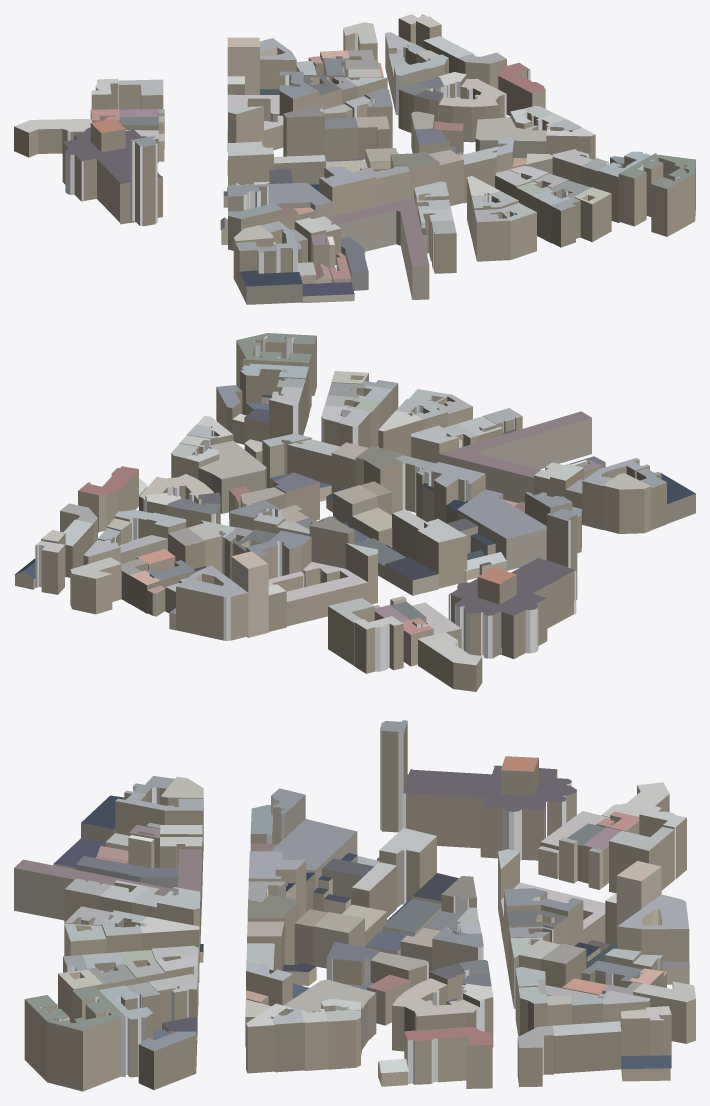
3 views of the same model, one above another, from view 1: azimuth 30°, elevation 25°; view 2: azimuth 150°, elevation 25°; view 3: azimuth 270°, elevation 25° (orthographic). The views are drawn at different scales.
Visible parts, largest first — view 1: tuile; view 2: tuile; view 3: tuile.
Part boxes in pixels (left/top/right/bottom): tuile: left=14, top=14, right=695, bottom=304; tuile: left=14, top=333, right=695, bottom=691; tuile: left=14, top=720, right=695, bottom=1091.
Bounding box in the file's own units: 276 × 49.18 × 284.
